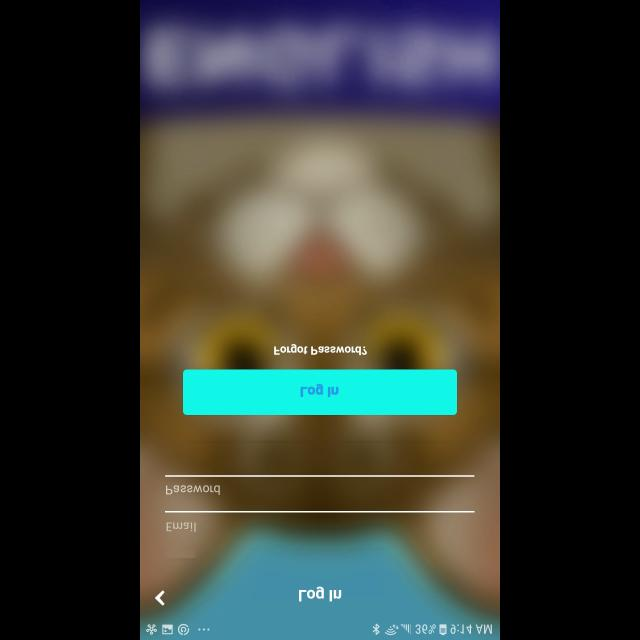backgroundimage: (140, 0, 500, 622)
icon: (155, 590, 165, 606)
input: (166, 510, 474, 532), (165, 474, 475, 494)
text: (274, 343, 368, 355), (298, 586, 342, 602), (166, 485, 220, 495), (168, 522, 196, 532)
textbutton: (183, 369, 457, 415)
uppertaskbar: (140, 622, 500, 640)
